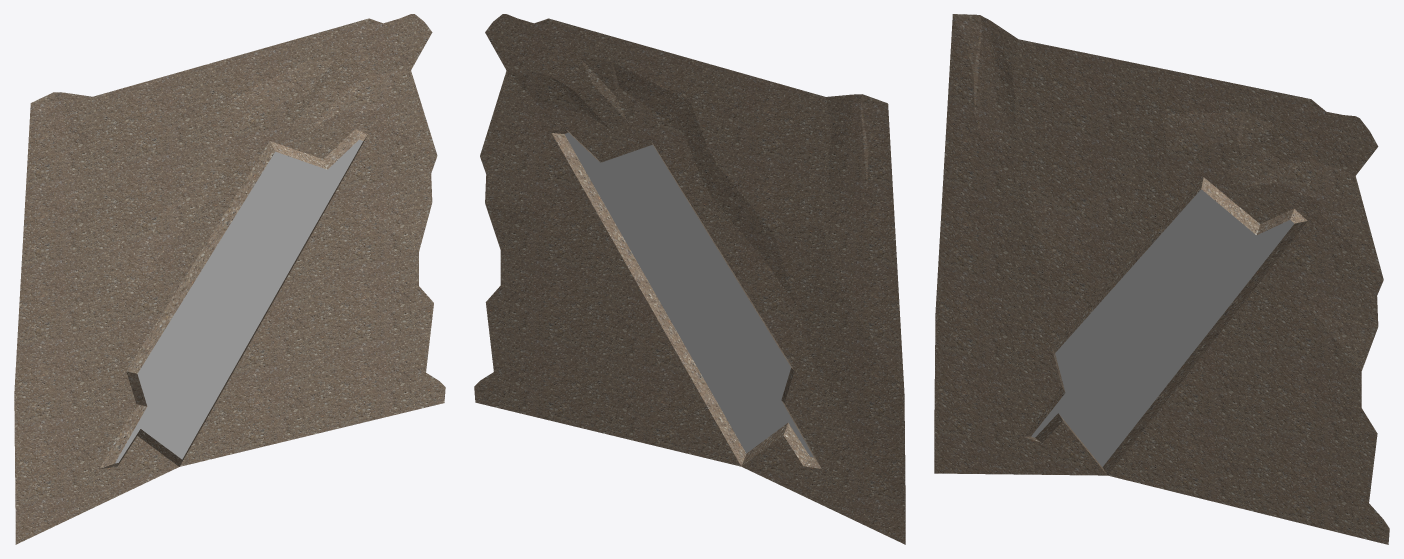
The model's file is MangaliaTerrain.dae.
3 views of the same model, side by side, from view 1: azimuth 30°, elevation 25°; view 2: azimuth 150°, elevation 25°; view 3: azimuth 330°, elevation 25° (orthographic). The views are drawn at different scales.
Visible parts, largest first — view 1: node; view 2: node; view 3: node.
Boxes of the visible parts, left/top/right/bottom form: node: left=14, top=14, right=445, bottom=544; node: left=474, top=14, right=905, bottom=544; node: left=934, top=14, right=1389, bottom=544.
Size of the model in its own units: 831 by 814 by 21.31.
